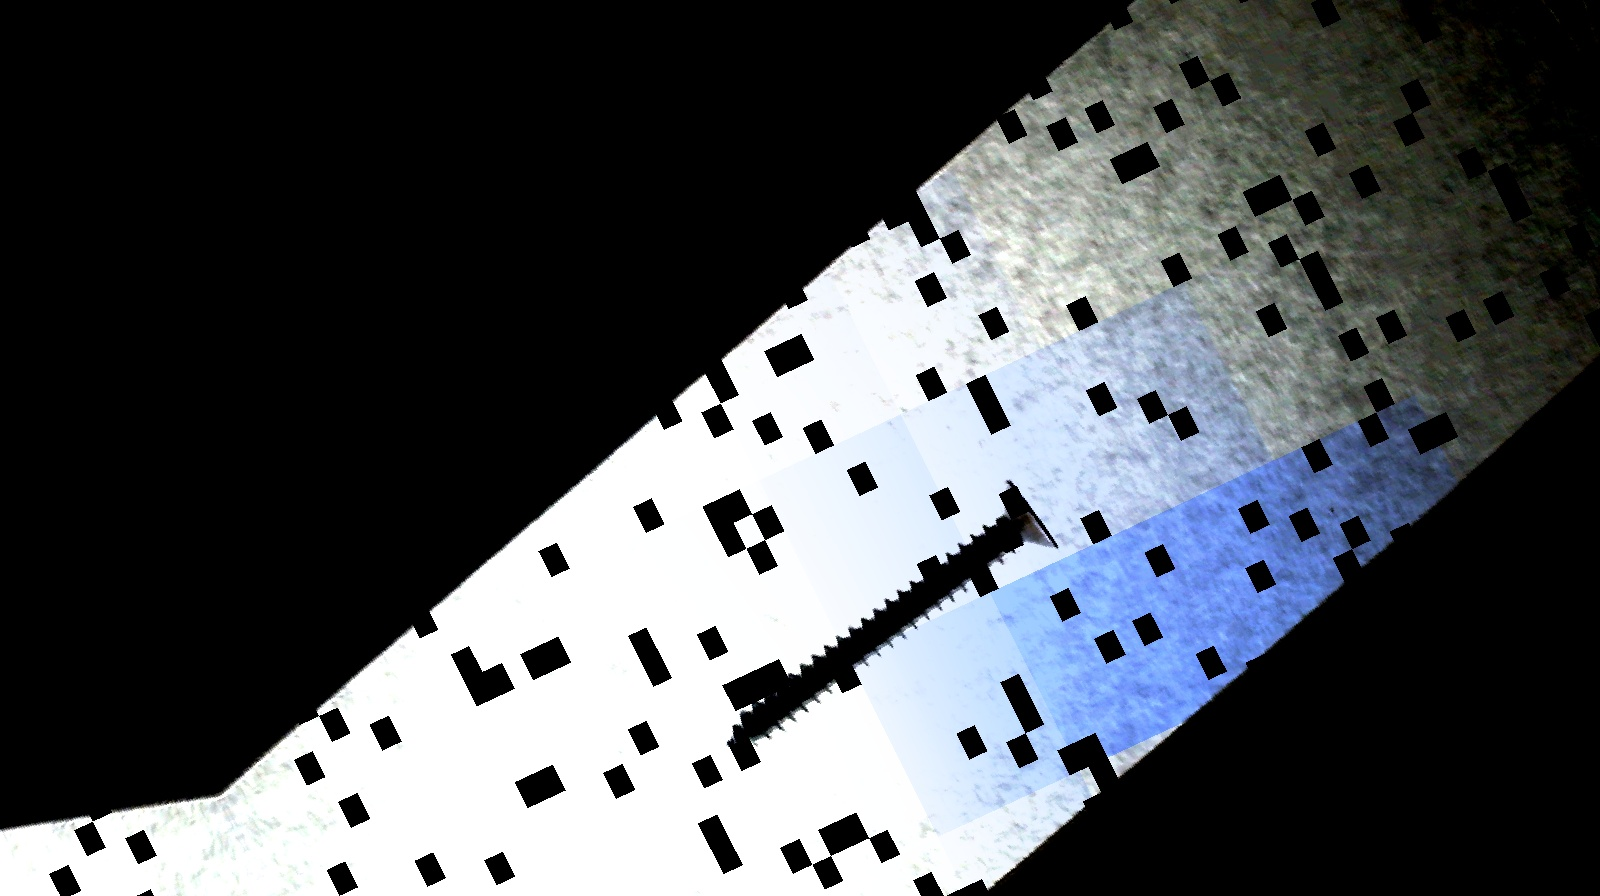S002: (666, 469, 1092, 766)
